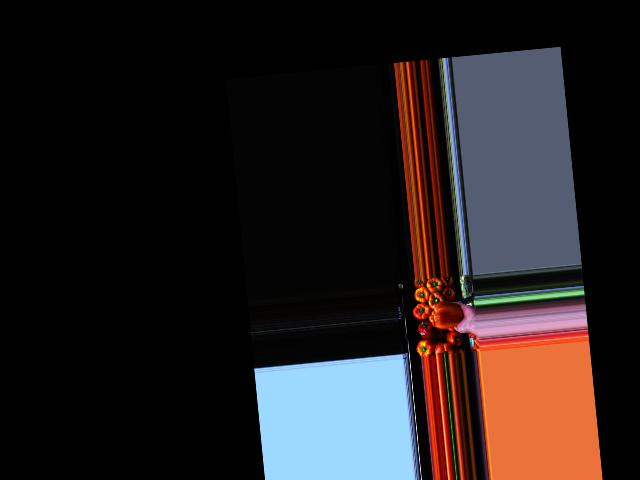bell_pepper: (445, 329, 461, 349)
